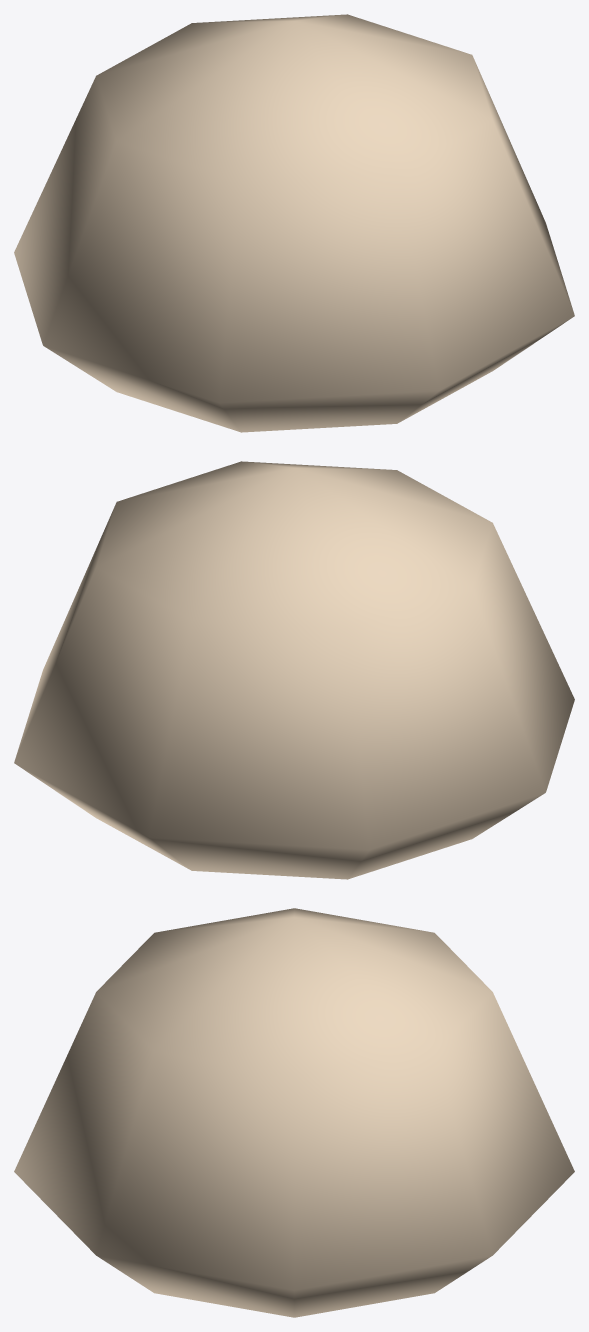
Rendered from Wolle.fbx.
3 views of the same model, one above another, from view 1: azimuth 30°, elevation 25°; view 2: azimuth 150°, elevation 25°; view 3: azimuth 270°, elevation 25° (orthographic). The views are drawn at different scales.
Visible parts, largest first — view 1: Sphere; view 2: Sphere; view 3: Sphere.
Part boxes in pixels (x1,y1,x2,y2): Sphere: [14, 14, 574, 432]; Sphere: [14, 461, 574, 879]; Sphere: [14, 908, 574, 1317].
Size of the model in its own units: 67.99 by 42.31 by 67.99.
